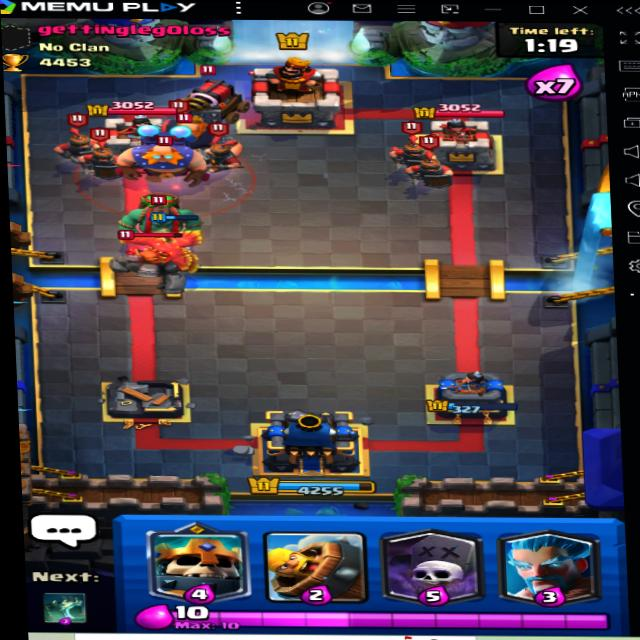electro-giant: (106, 124, 216, 190)
goblin-giant: (121, 186, 204, 246)
golem: (110, 234, 202, 290)
royal-giant: (149, 102, 231, 161)
royal-recruits: (378, 115, 442, 172), (50, 111, 107, 169), (194, 122, 244, 173), (75, 128, 119, 180), (410, 140, 454, 190)
sparky: (171, 68, 247, 128)
